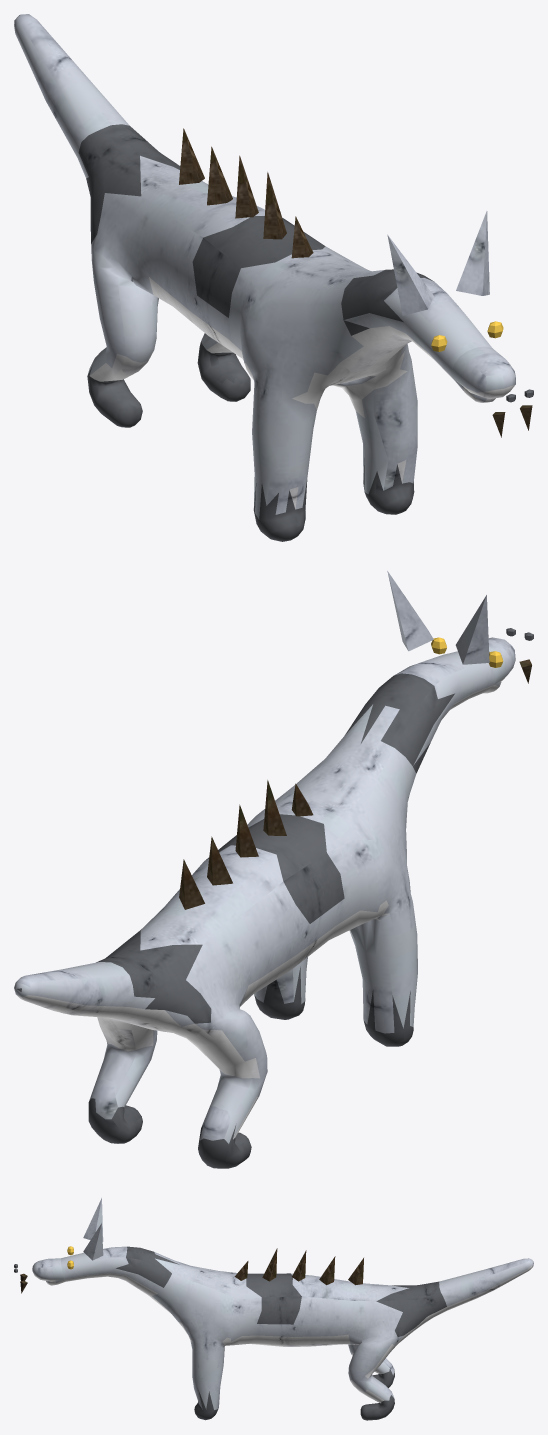
The model's file is mon_quad_01.glb.
3 renders of one model, top to bottom at view 1: azimuth 30°, elevation 25°; view 2: azimuth 150°, elevation 25°; view 3: azimuth 270°, elevation 25°, orthographic. The views are drawn at different scales.
Parts seen in each view (by area): view 1: mon_quad_01; view 2: mon_quad_01; view 3: mon_quad_01.
Part boxes in pixels (x1,y1,x2,y2): mon_quad_01: (14,14,533,541); mon_quad_01: (14,571,533,1168); mon_quad_01: (14,1198,533,1420).
Bounding box in the file's own units: 0.3245 × 0.7447 × 1.79.
Materials: 5 (5 with a texture image).
